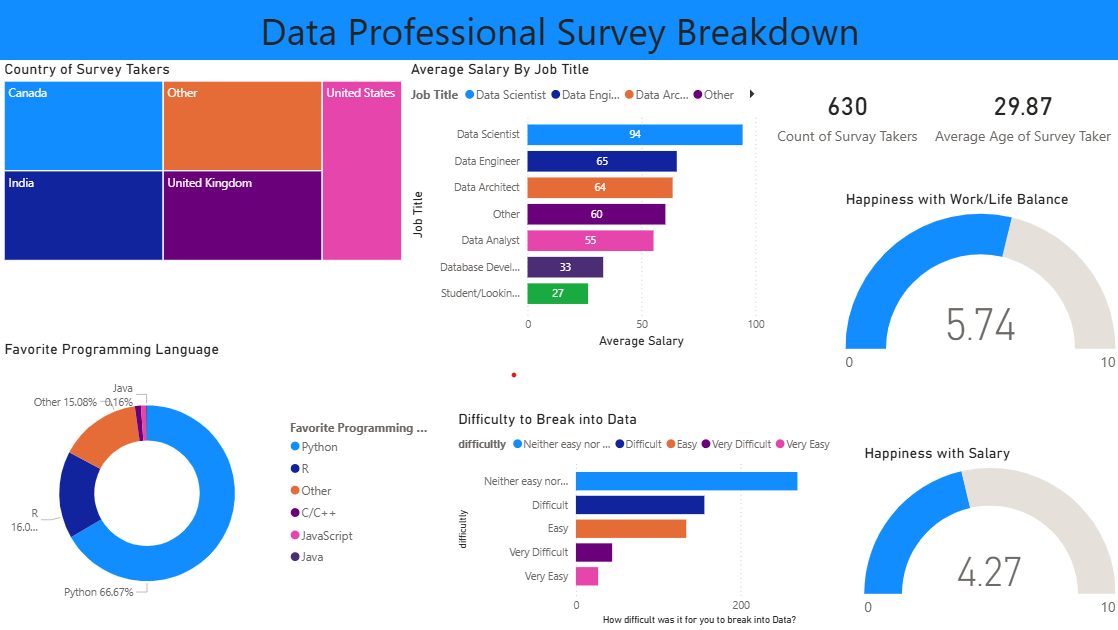

The page's visual inventory and layout, read from the dashboard file:
{"tool":"powerbi","page":{"name":"Page 1","canvas":[1280,720],"ordinal":0},"visuals":[{"type":"textbox","box":[0,0,1280,68.6],"z":0},{"type":"card","fields":{"Values":["CountNonNull(Data Professional Survey.Unique ID)"]},"box":[878.6,68.6,180,122.9],"z":1000},{"type":"card","fields":{"Values":["Avg(Data Professional Survey.Q10 - Current Age)"]},"box":[1058.6,68.6,221.4,122.9],"z":2000},{"type":"barChart","title":"Average Salary By Job Title","fields":{"Category":["Data Professional Survey.Q1 - Which Title Best Fits your Current Role?.1"],"Y":["Avg(Data Professional Survey.Average Salary)"],"Series":["Data Professional Survey.Q1 - Which Title Best Fits your Current Role?.1"]},"box":[464.3,68.6,414.3,334.3],"z":3000},{"type":"donutChart","title":"Favorite Programming Language","fields":{"Category":["Data Professional Survey.Q5 - Favorite Programming Language.1","Data Professional Survey.Q1 - Which Title Best Fits your Current Role?.1"],"Y":["CountNonNull(Data Professional Survey.Unique ID)"]},"box":[0,388.6,491.4,331.4],"z":4000},{"type":"treemap","title":"Country of Survey Takers","fields":{"Group":["Data Professional Survey.Q11 - Which Country do you live in?.1"],"Values":["Count(Data Professional Survey.Q11 - Which Country do you live in?.1)"]},"box":[0,68.6,464.3,234.3],"z":5000},{"type":"gauge","title":"Happiness with Work/Life Balance","fields":{"Y":["Avg(Data Professional Survey.Q6 - How Happy are you in your Current Position with the following? (Work/Life Balance))"],"MinValue":["Min(Data Professional Survey.Q6 - How Happy are you in your Current Position with the following? (Work/Life Balance))1"],"MaxValue":["Max(Data Professional Survey.Q6 - How Happy are you in your Current Position with the following? (Work/Life Balance))2"]},"box":[961.4,217.1,318.6,221.4],"z":6000},{"type":"gauge","title":"Happiness with Salary","fields":{"Y":["Avg(Data Professional Survey.Q6 - How Happy are you in your Current Position with the following? (Salary))"],"MinValue":["Min(Data Professional Survey.Q6 - How Happy are you in your Current Position with the following? (Salary))"],"MaxValue":["Max(Data Professional Survey.Q6 - How Happy are you in your Current Position with the following? (Salary))"]},"box":[982.9,507.8,297.3,211.8],"z":7000},{"type":"barChart","title":"Difficulty to Break into Data","fields":{"Category":["Data Professional Survey.Q7 - How difficult was it for you to break into Data?"],"Y":["CountNonNull(Data Professional Survey.Q7 - How difficult was it for you to break into Data?)"],"Series":["Data Professional Survey.Q7 - How difficult was it for you to break into Data?"]},"box":[518.6,468.4,437.2,251.2],"z":8000}]}

Visuals, with their boxes in screenshot pixels (x1, y1, x2, y2), scaled from the page's 1280x720 canvas onto the 1118x630 screenshot:
textbox: bbox=(0, 0, 1117, 60)
card - CountNonNull(Data Professional Survey.Unique ID): bbox=(767, 60, 925, 168)
card - Avg(Data Professional Survey.Q10 - Current Age): bbox=(925, 60, 1117, 168)
"Average Salary By Job Title" barChart: bbox=(406, 60, 767, 353)
"Favorite Programming Language" donutChart: bbox=(0, 340, 429, 629)
"Country of Survey Takers" treemap: bbox=(0, 60, 406, 265)
"Happiness with Work/Life Balance" gauge: bbox=(840, 190, 1117, 384)
"Happiness with Salary" gauge: bbox=(859, 444, 1117, 629)
"Difficulty to Break into Data" barChart: bbox=(453, 410, 835, 629)
